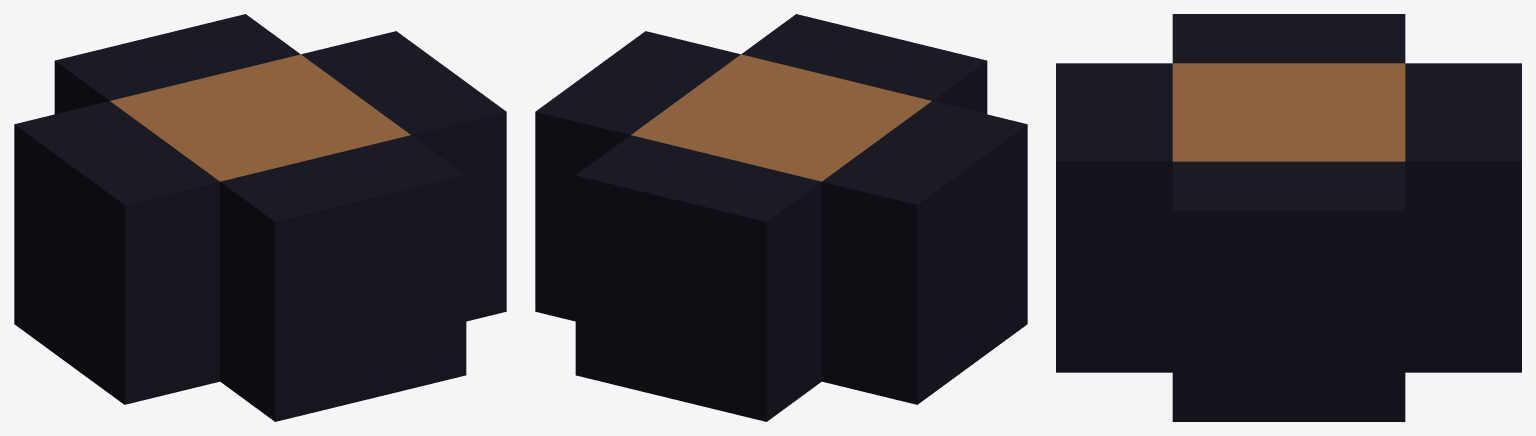
File: BombSmallWick.obj
3 views of the same model, side by side, from view 1: azimuth 30°, elevation 25°; view 2: azimuth 150°, elevation 25°; view 3: azimuth 270°, elevation 25° (orthographic). The views are drawn at different scales.
Bounding box in the file's own units: 0.4 × 0.2 × 0.4.
Materials: 1 (1 with a texture image).
